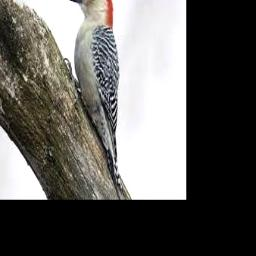Woodpecker: (66, 0, 130, 199)
